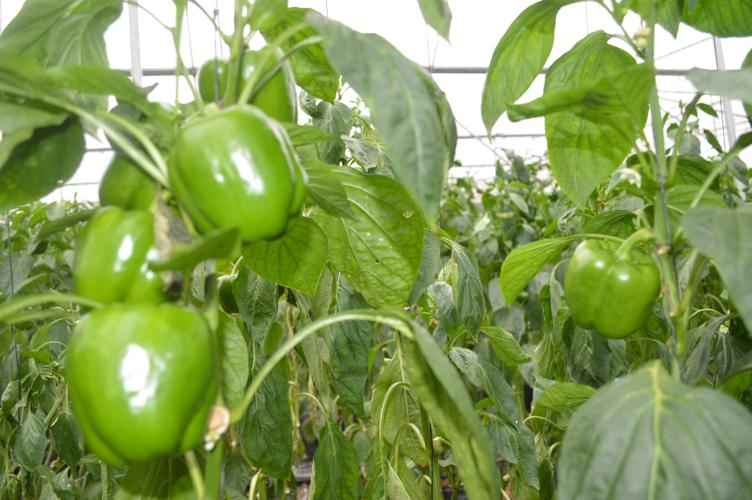BellPepper: (57, 306, 216, 457), (172, 110, 302, 237), (555, 236, 660, 341), (78, 210, 170, 307), (198, 47, 298, 117)
